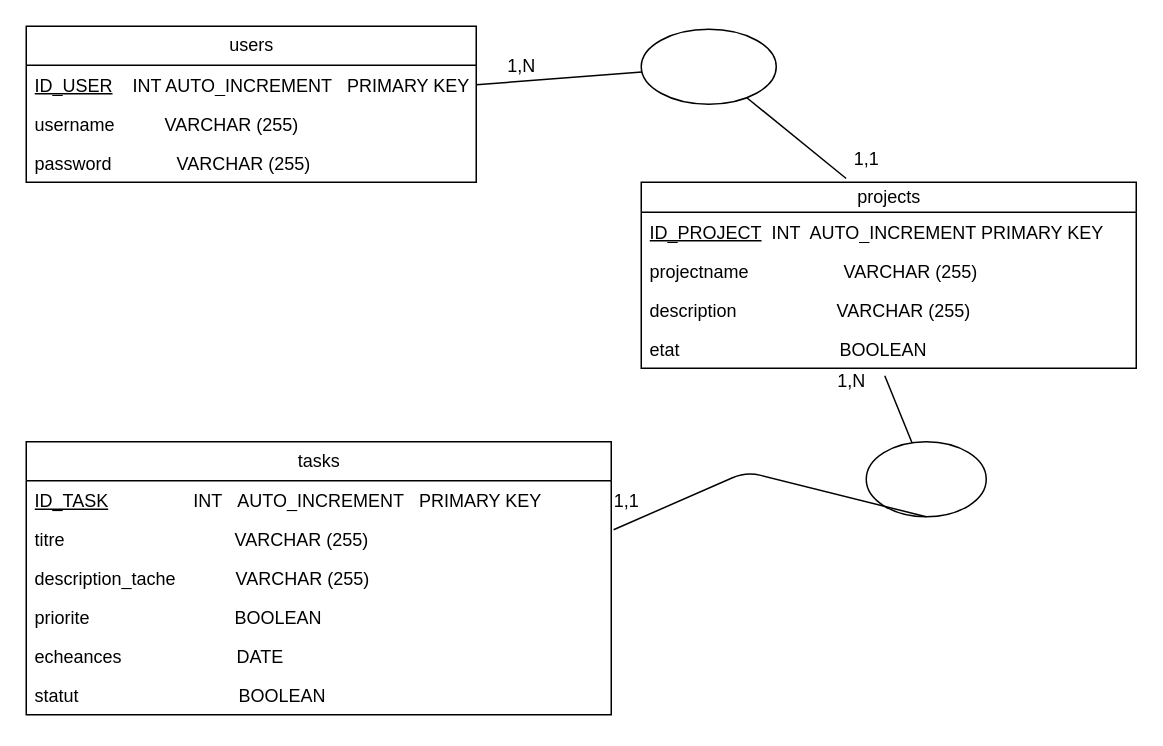
Some shapes in this 1163 by 746 pixel diagram are drawn without their labels. The shapes that lost their labels are listed below. From the top down, each one's centre as x and y in pixels, then its label:
(x=708, y=66): gere
(x=925, y=478): associe
